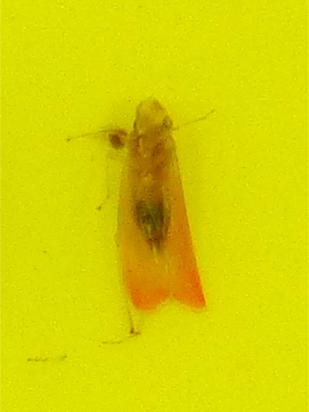Hemiptera: (100, 100, 209, 312)
